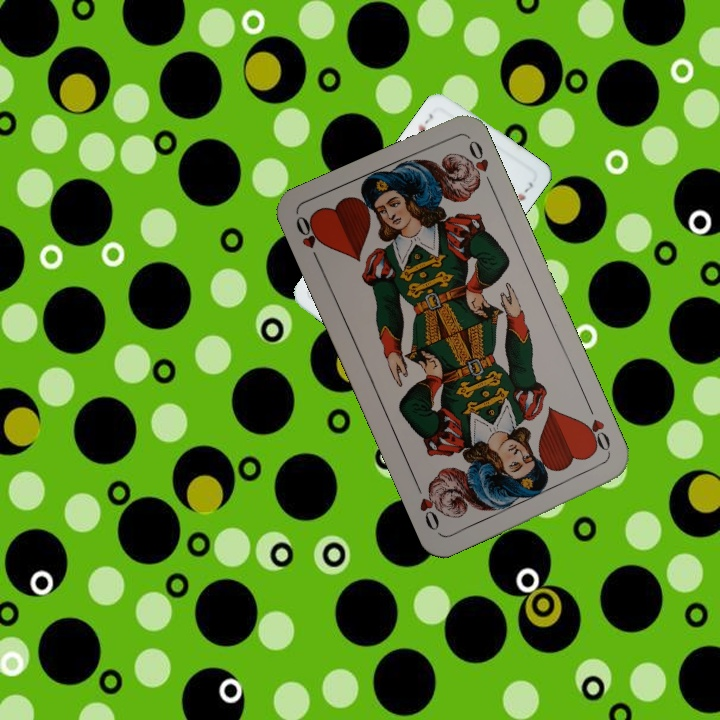H7: (414, 109, 436, 134)
HO: (578, 401, 614, 458), (291, 212, 326, 269)
